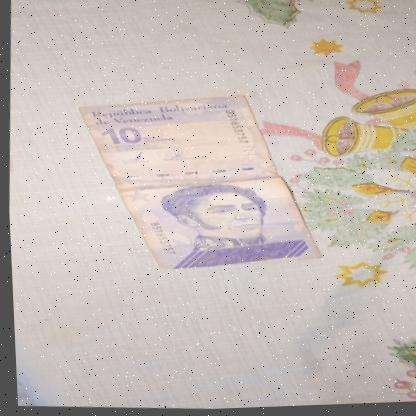ten-front-vef: (67, 85, 328, 283)
